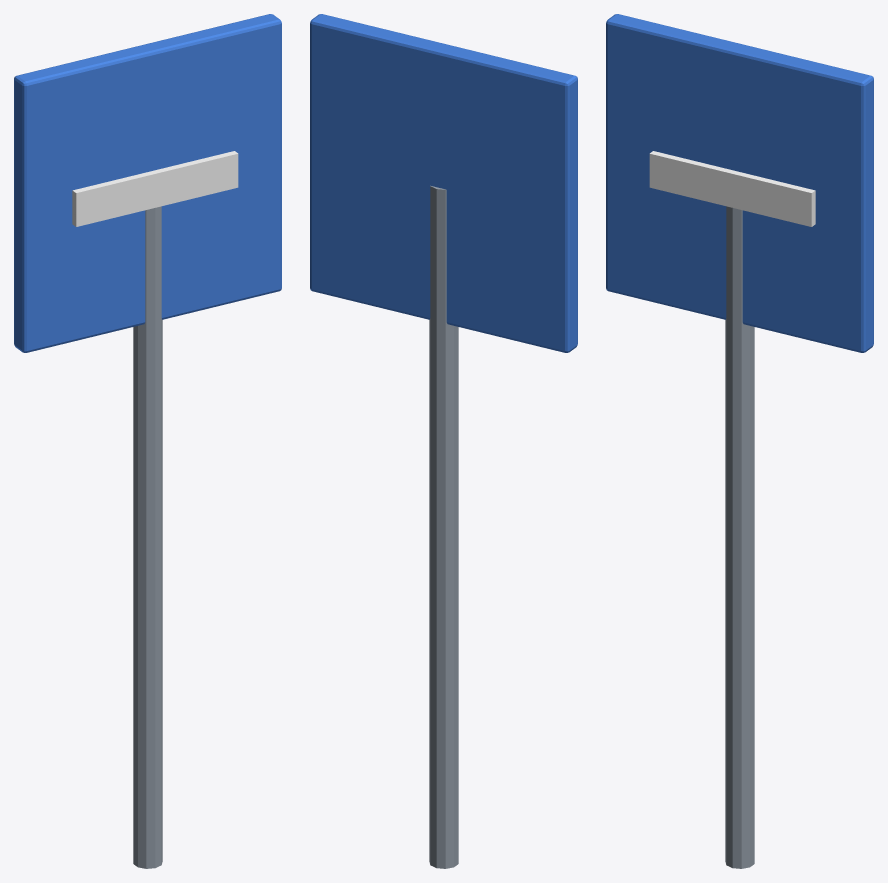
File: Bike_Sign.fbx
3 renders of one model, left to right at view 1: azimuth 30°, elevation 25°; view 2: azimuth 150°, elevation 25°; view 3: azimuth 330°, elevation 25°, orthographic.
Visible parts, largest first — view 1: Sign; view 2: Sign; view 3: Sign.
Part boxes in pixels (left/top/right/bottom): Sign: left=14, top=14, right=281, bottom=868; Sign: left=310, top=14, right=577, bottom=868; Sign: left=606, top=14, right=873, bottom=868.
Bounding box in the file's own units: 0.8 × 2.4 × 0.09.
